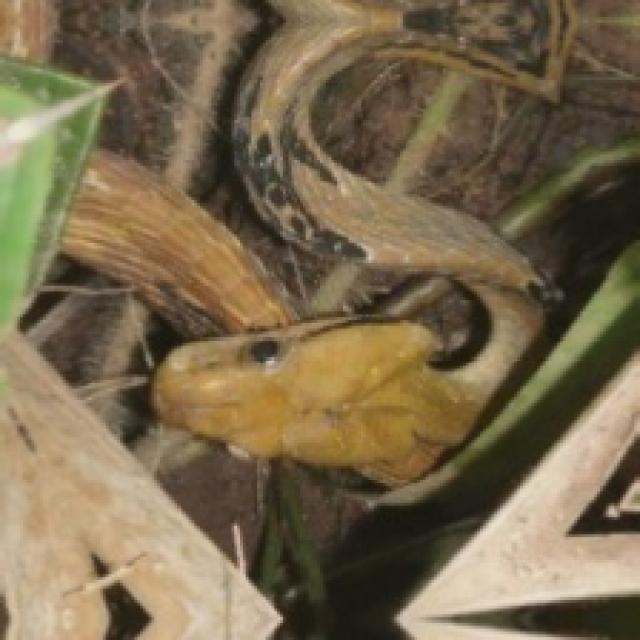dog-toothed cat snake: (62, 0, 542, 481)
